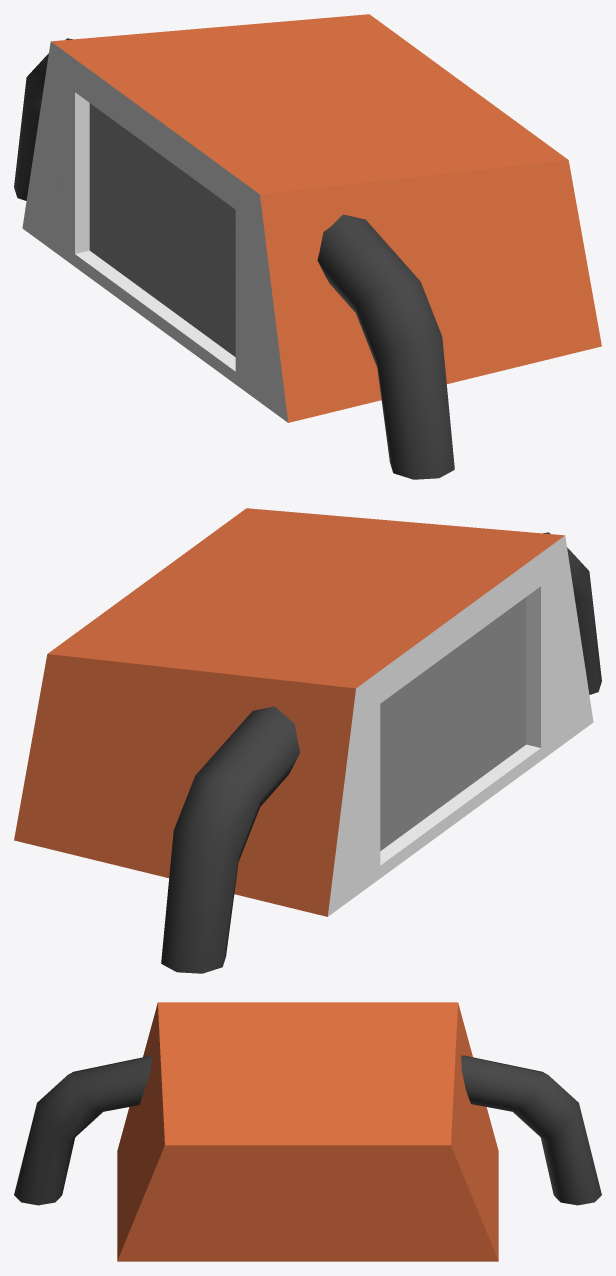
Rendered from Machine_2.fbx.
3 views of the same model, one above another, from view 1: azimuth 30°, elevation 25°; view 2: azimuth 150°, elevation 25°; view 3: azimuth 270°, elevation 25° (orthographic). The views are drawn at different scales.
Visible parts, largest first — view 1: Machine_2; view 2: Machine_2; view 3: Machine_2.
Boxes of the visible parts, x1=… form: Machine_2: x1=14, y1=14, x2=601, y2=479; Machine_2: x1=14, y1=508, x2=601, y2=973; Machine_2: x1=14, y1=1002, x2=601, y2=1261.
Bounding box in the file's own units: 401 × 281 × 906.
